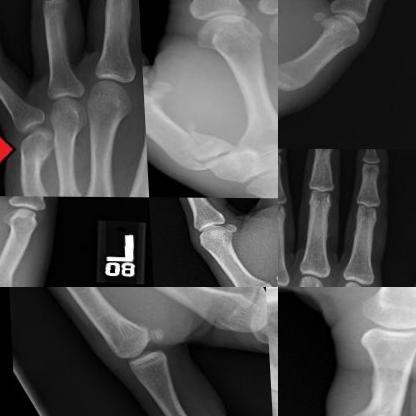fracture: (168, 122, 240, 172), (16, 117, 63, 175)
